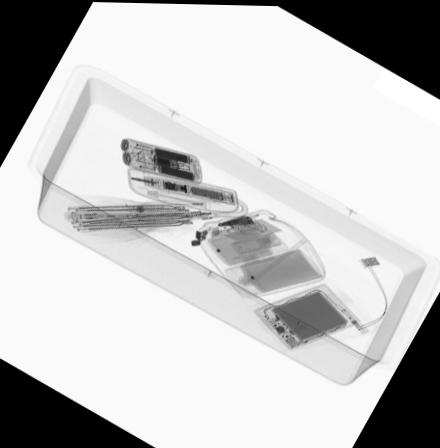Powerbank: (252, 283, 362, 350)
